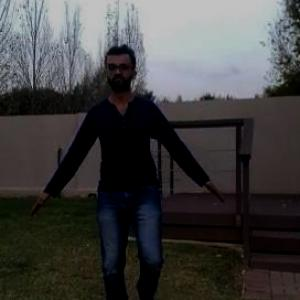land: (20, 35, 238, 299)
